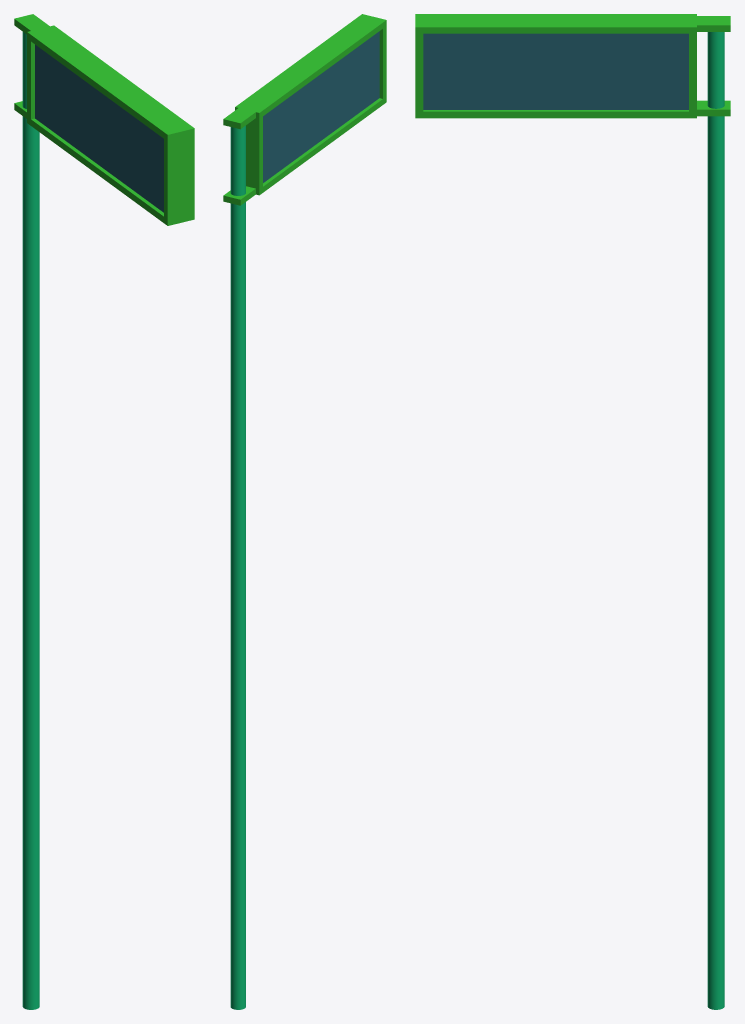
Rendered from Sign Pole.fbx.
3 views of the same model, side by side, from view 1: azimuth 30°, elevation 25°; view 2: azimuth 150°, elevation 25°; view 3: azimuth 270°, elevation 25° (orthographic). The views are drawn at different scales.
Visible parts, largest first — view 1: Sign Pole; view 2: Sign Pole; view 3: Sign Pole.
Part boxes in pixels (left/top/right/bottom): Sign Pole: left=14, top=14, right=194, bottom=1009; Sign Pole: left=223, top=14, right=386, bottom=1009; Sign Pole: left=415, top=14, right=730, bottom=1009.
Size of the model in its own units: 10.72 by 109 by 374.
